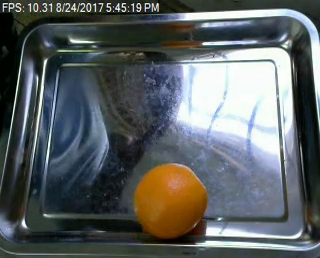Orange: (132, 164, 209, 238)
